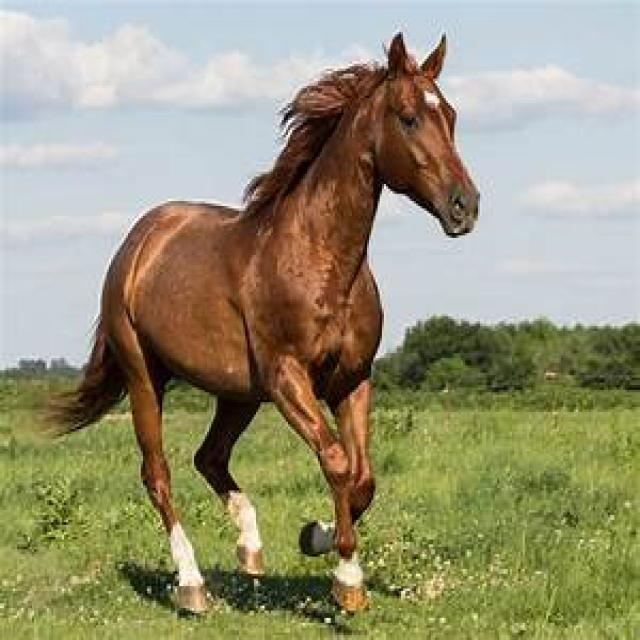horse: (32, 32, 480, 618)
